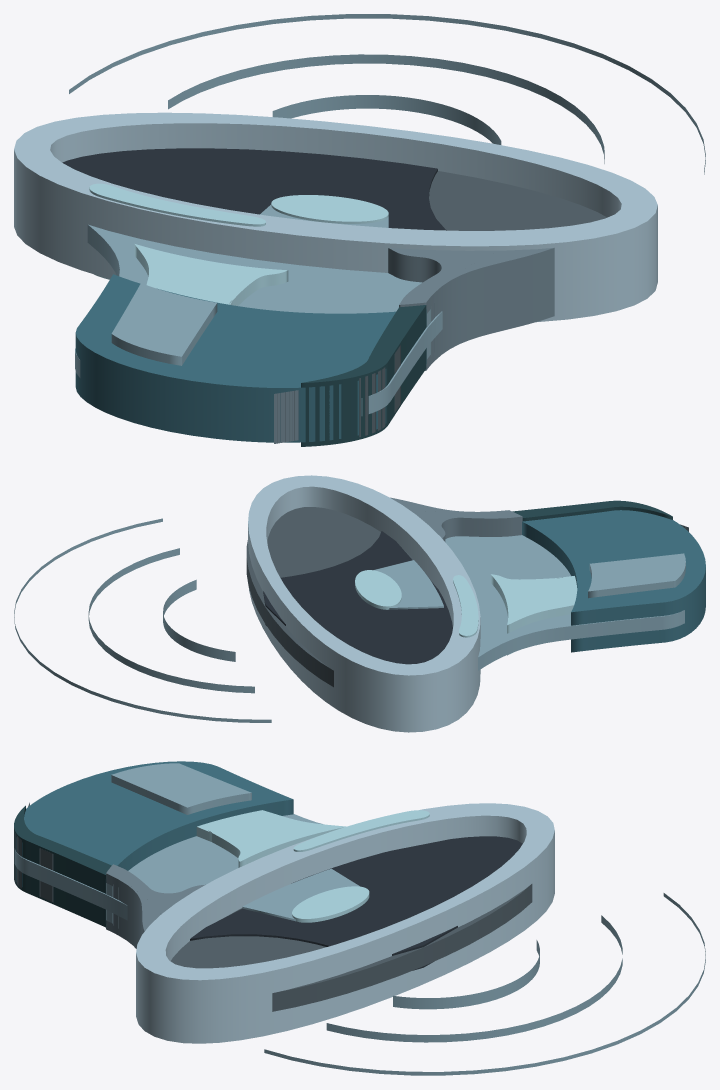
File: emoji_u1f50a.glb
3 renders of one model, top to bottom at view 1: azimuth 30°, elevation 25°; view 2: azimuth 150°, elevation 25°; view 3: azimuth 270°, elevation 25°, orthographic. The views are drawn at different scales.
Visible parts, largest first — view 1: emoji_u1f50a; view 2: emoji_u1f50a; view 3: emoji_u1f50a.
Part boxes in pixels (left/top/right/bottom): emoji_u1f50a: left=14, top=14, right=705, bottom=446; emoji_u1f50a: left=14, top=475, right=705, bottom=732; emoji_u1f50a: left=14, top=761, right=705, bottom=1075.
Size of the model in its own units: 0.0333 by 0.0036 by 0.0335.
